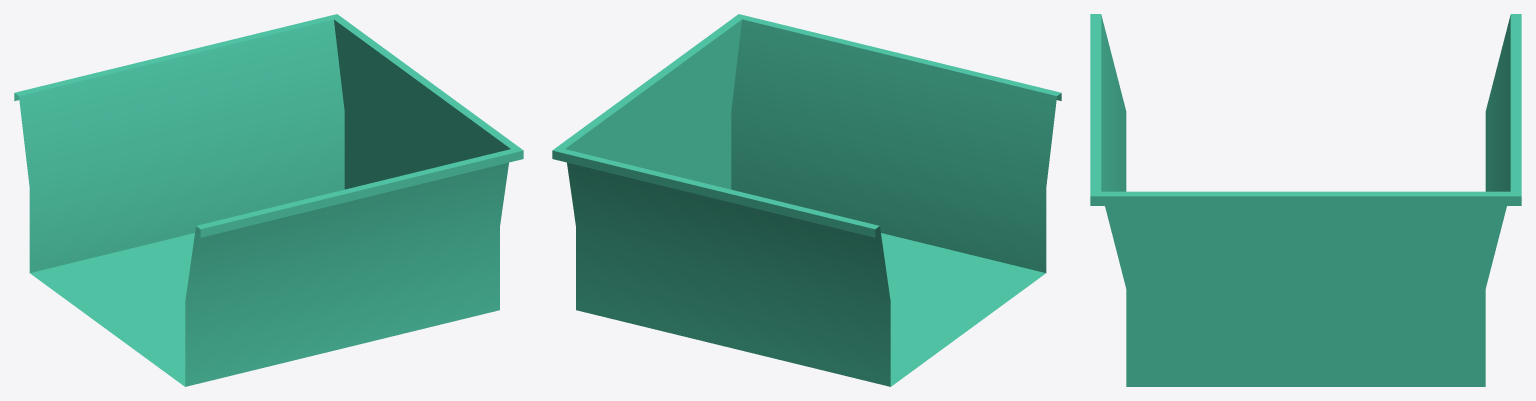
Rendered from Floor_4x4m_D_End.FBX.
The picture shows the model from 3 angles, left to right: view 1: azimuth 30°, elevation 25°; view 2: azimuth 150°, elevation 25°; view 3: azimuth 270°, elevation 25°; orthographic projection. The views are drawn at different scales.
Parts seen in each view (by area): view 1: Floor_4x4m_D_End; view 2: Floor_4x4m_D_End; view 3: Floor_4x4m_D_End.
Part boxes in pixels (left/top/right/bottom): Floor_4x4m_D_End: left=14, top=14, right=523, bottom=386; Floor_4x4m_D_End: left=552, top=14, right=1061, bottom=386; Floor_4x4m_D_End: left=1090, top=14, right=1521, bottom=386.
Bounding box in the file's own units: 400 × 200 × 400.
